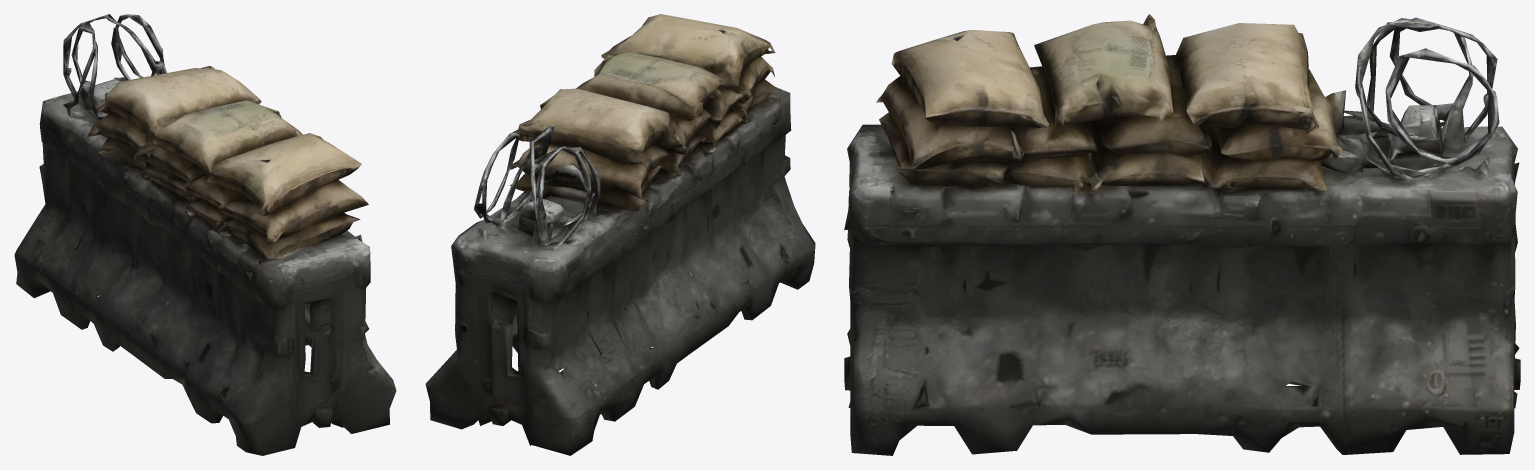
File: xd_barrier.glb
The picture shows the model from 3 angles, left to right: view 1: azimuth 30°, elevation 25°; view 2: azimuth 150°, elevation 25°; view 3: azimuth 270°, elevation 25°; orthographic projection. The views are drawn at different scales.
Parts seen in each view (by area): view 1: tripo_node_86916bbd-5e0f-4c51-b88f-be9403ae4ec3; view 2: tripo_node_86916bbd-5e0f-4c51-b88f-be9403ae4ec3; view 3: tripo_node_86916bbd-5e0f-4c51-b88f-be9403ae4ec3.
Boxes of the visible parts, bbox=[...] form: tripo_node_86916bbd-5e0f-4c51-b88f-be9403ae4ec3: bbox=[14, 14, 396, 455]; tripo_node_86916bbd-5e0f-4c51-b88f-be9403ae4ec3: bbox=[425, 14, 815, 455]; tripo_node_86916bbd-5e0f-4c51-b88f-be9403ae4ec3: bbox=[844, 14, 1520, 455].
Bounding box in the file's own units: 0.3663 × 0.6262 × 1.
Materials: 1 (1 with a texture image).
